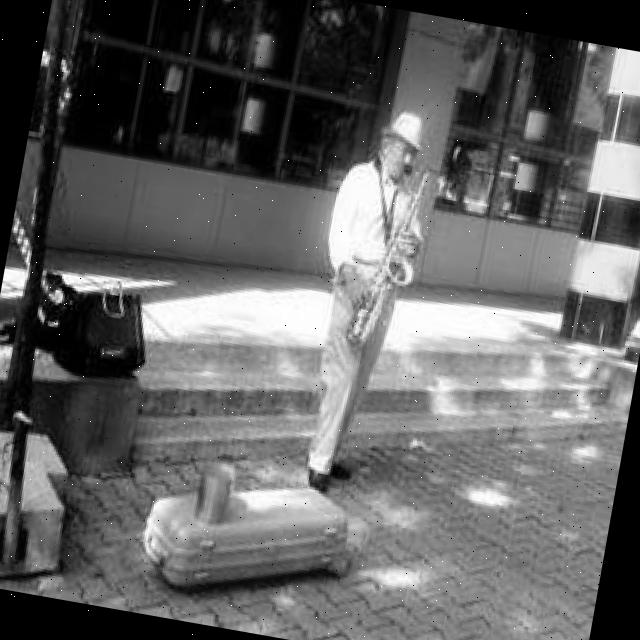saxophone: (342, 157, 439, 360)
